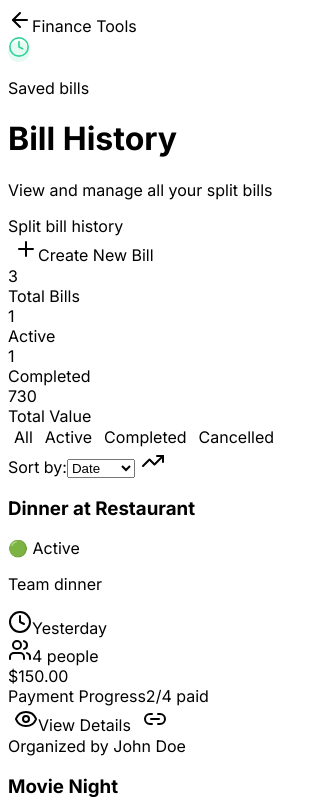
Test: BillHistoryPage › Filter Buttons › should filter bills by completed status
Expected: the heading "Dinner at Restaurant" is shown, 8,497 -> 195,520
Note: Find the filter button for Completed (not the stats label)
Click the button "Completed": (145, 437) 98,426 -> 193,448
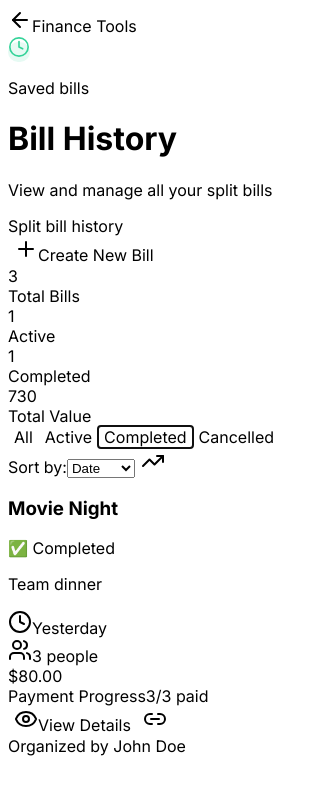
Expected: the heading "Movie Night" is shown, 8,497 -> 118,520
Expected: the heading "Dinner at Restaurant" is gone
